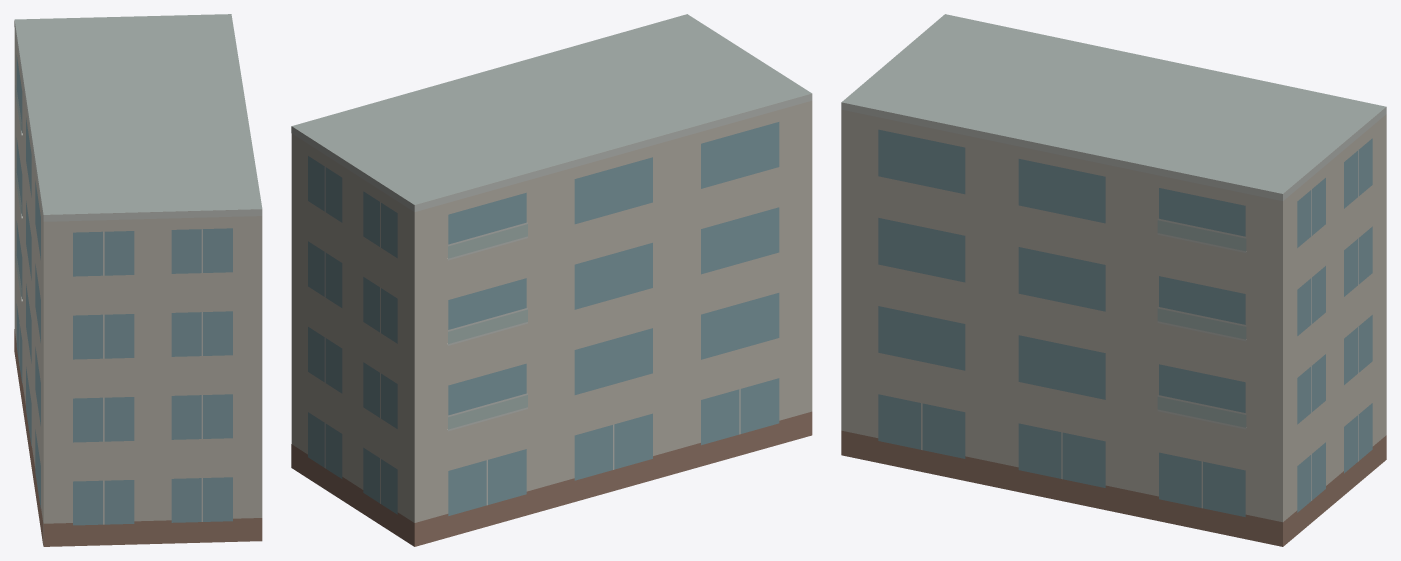
File: survey-upis-32893923.glb
3 renders of one model, left to right at view 1: azimuth 30°, elevation 25°; view 2: azimuth 150°, elevation 25°; view 3: azimuth 270°, elevation 25°, orthographic. The views are drawn at different scales.
Visible parts, largest first — view 1: survey-upis-32893923.tmp; view 2: survey-upis-32893923.tmp; view 3: survey-upis-32893923.tmp.
Boxes of the visible parts, x1,y1,x2,y2 form: survey-upis-32893923.tmp: (14, 14, 262, 546); survey-upis-32893923.tmp: (291, 14, 812, 546); survey-upis-32893923.tmp: (841, 14, 1386, 546).
Size of the model in its own units: 12.92 by 11.8 by 16.53.
